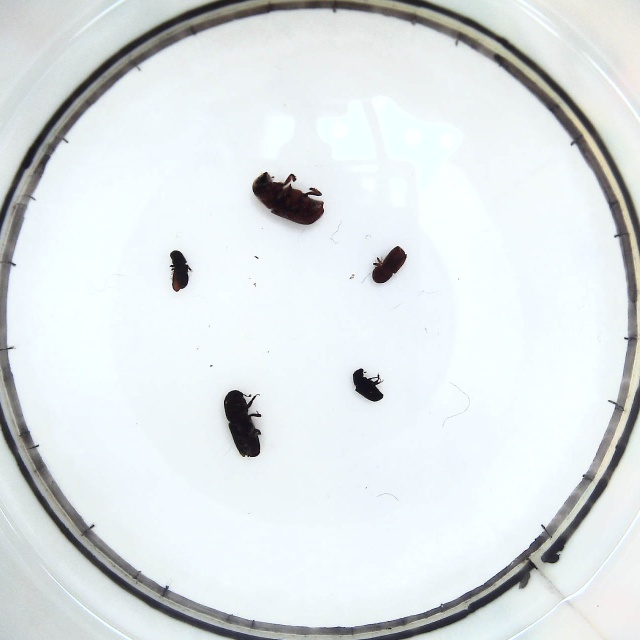armandi: (168, 248, 190, 292)
boerner: (221, 386, 266, 458)
coleoptera: (351, 364, 385, 402)
leconte: (251, 170, 326, 228)
linnaeus: (370, 242, 409, 286)
